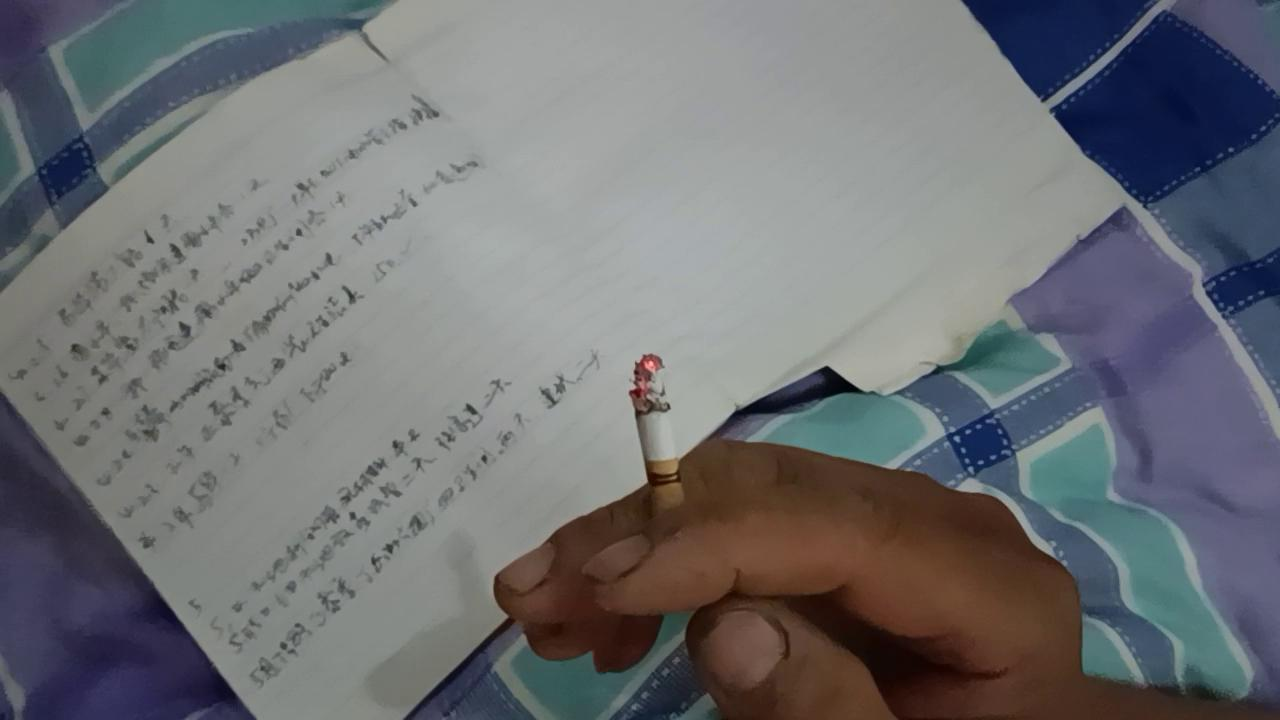smoke: (630, 352, 690, 536)
